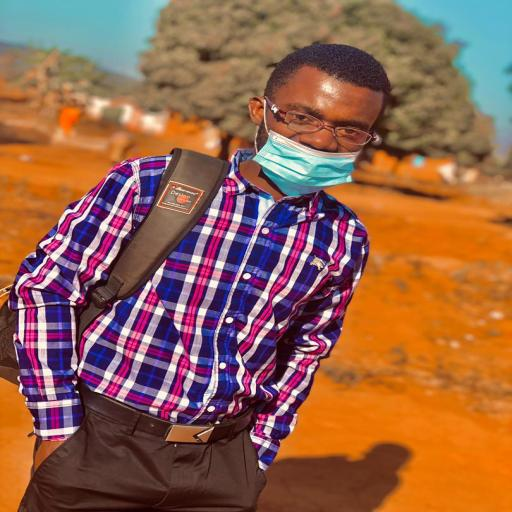MATTHIEU: (244, 46, 408, 210)
